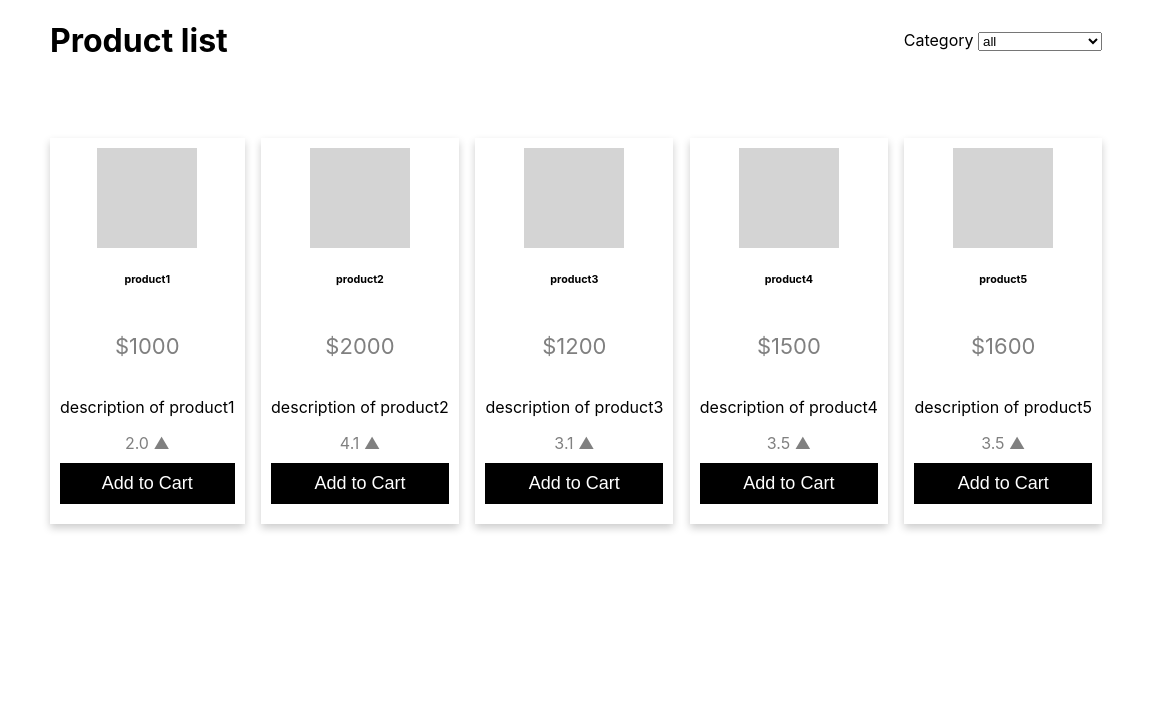
Test case: Product Component › should filter for jewelery terms
Select "jewelery" in the dropdown. click: (1040, 42)
box: [978,32,1102,51]
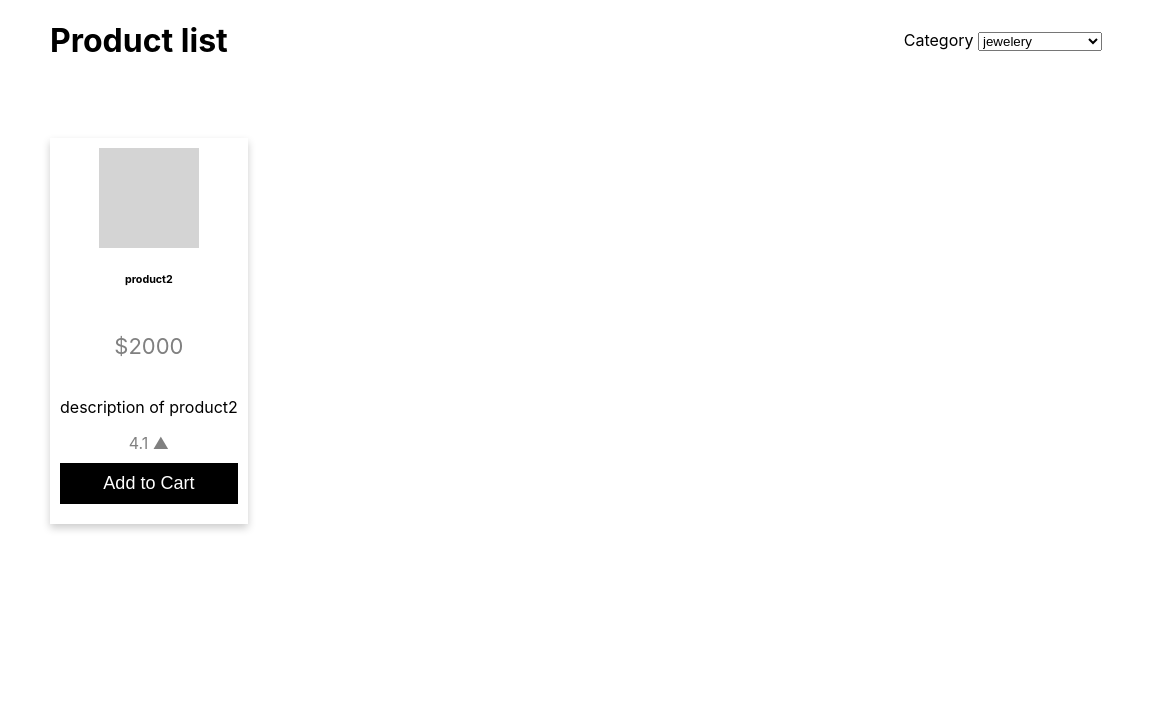
Expected: the heading "product2" is shown, [125,273,173,286]
Now the heading "product1" is gone
Now the heading "product3" is gone
